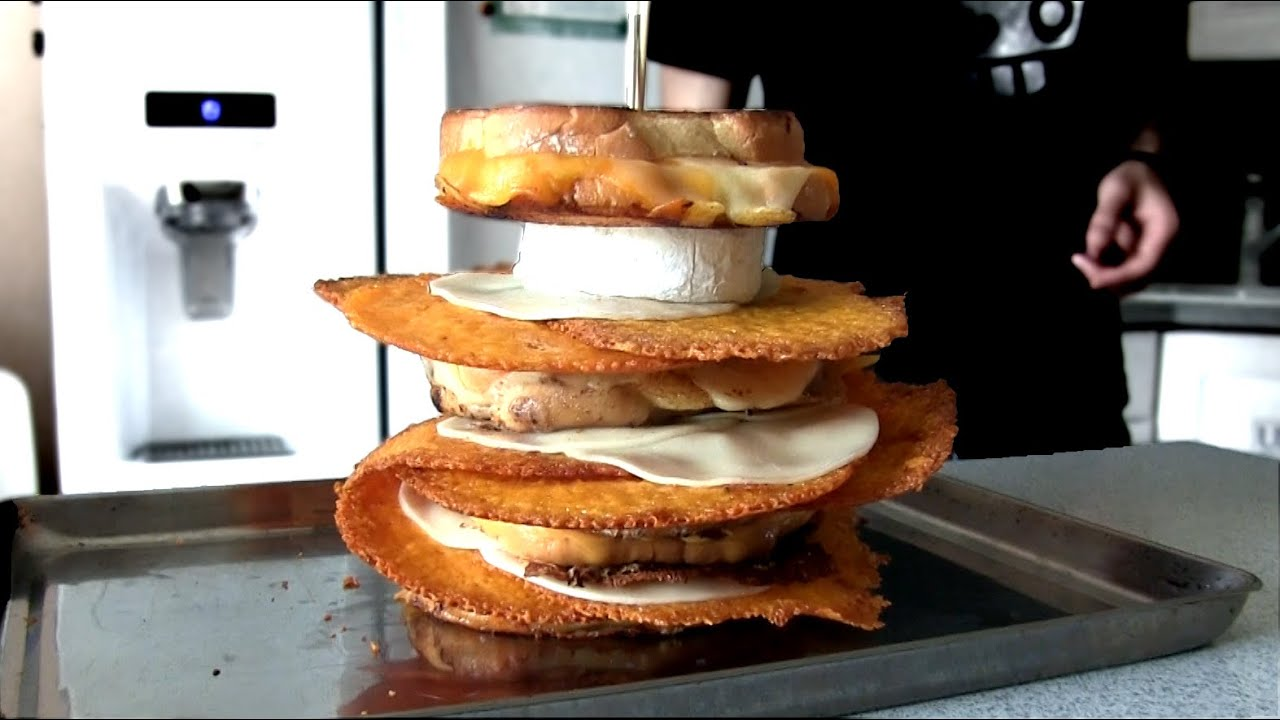cheese: (571, 420, 929, 498), (501, 219, 799, 306), (460, 156, 796, 214)
